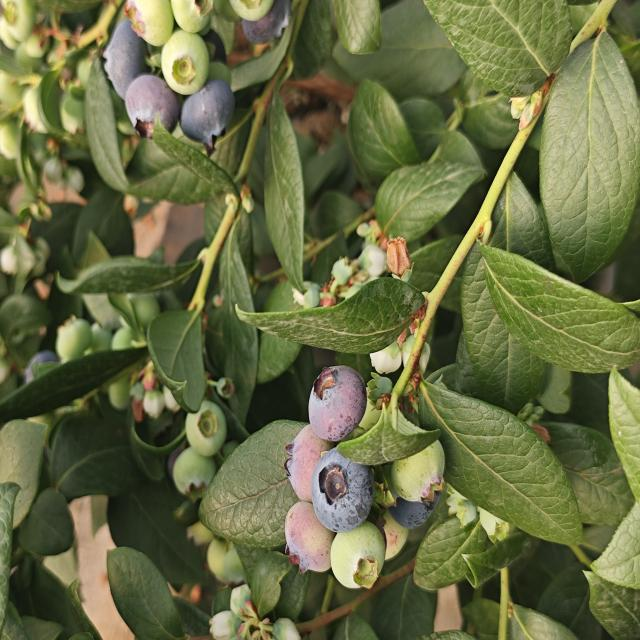ripe: (303, 349, 361, 427), (100, 19, 152, 95), (182, 87, 236, 147), (320, 458, 368, 520), (116, 76, 172, 126), (238, 0, 284, 56), (387, 504, 427, 529)
